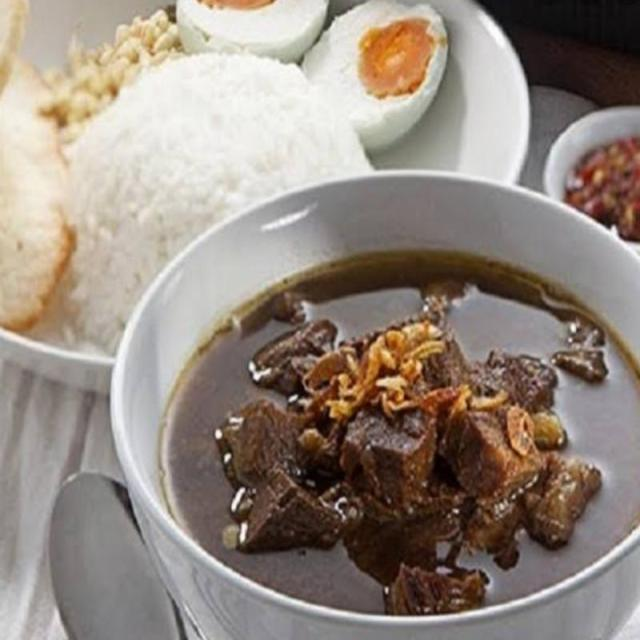Rawon: (161, 241, 624, 608)
